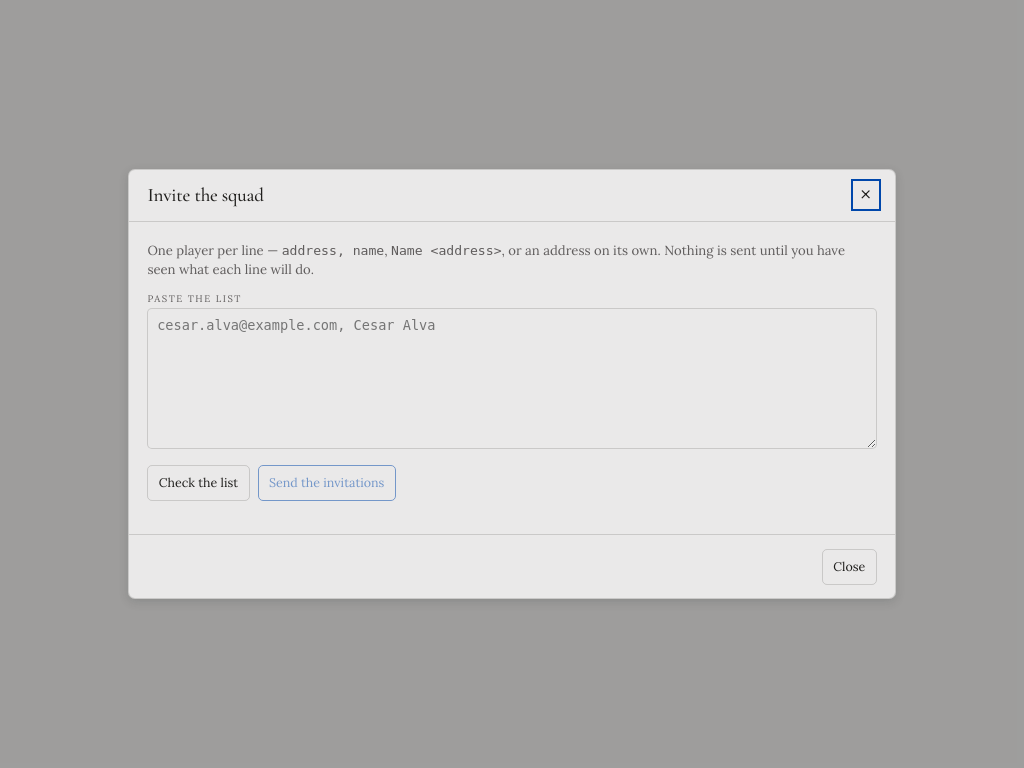
Test case: sending › hands back the database's own words when it refuses one
Type "cesar@example.com, Cesar Alva" into the text box labelled "Paste the list" at (512, 378), box [147, 308, 877, 449]
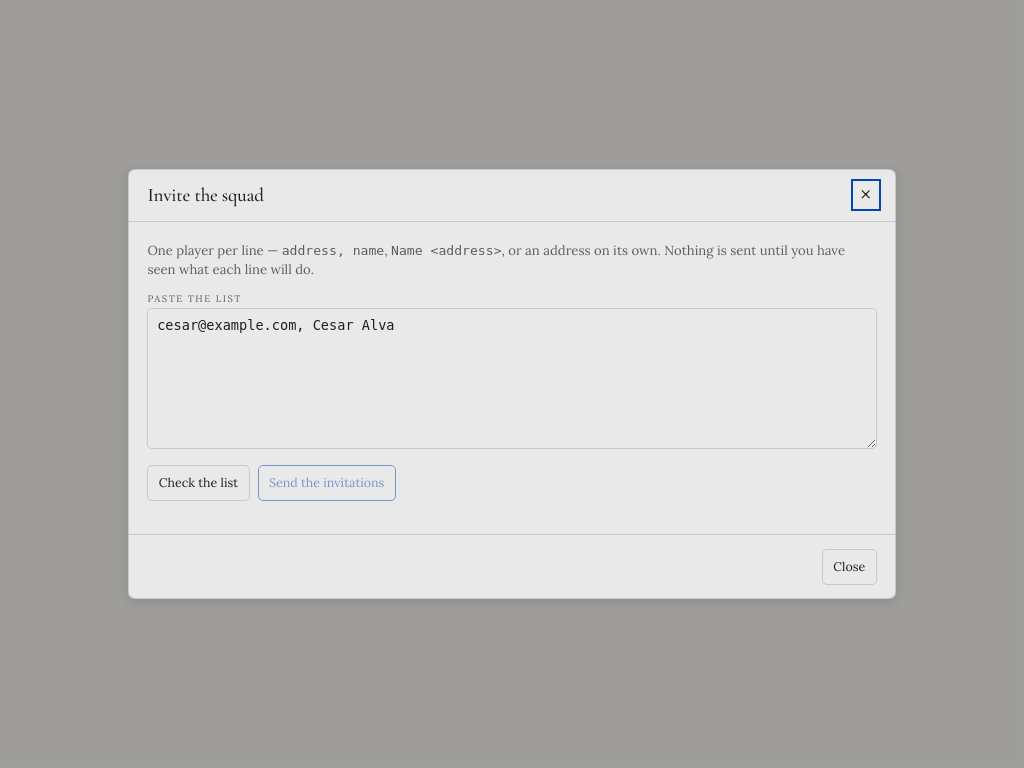
Click the button "Check the list" at (198, 483), box [147, 465, 250, 501]
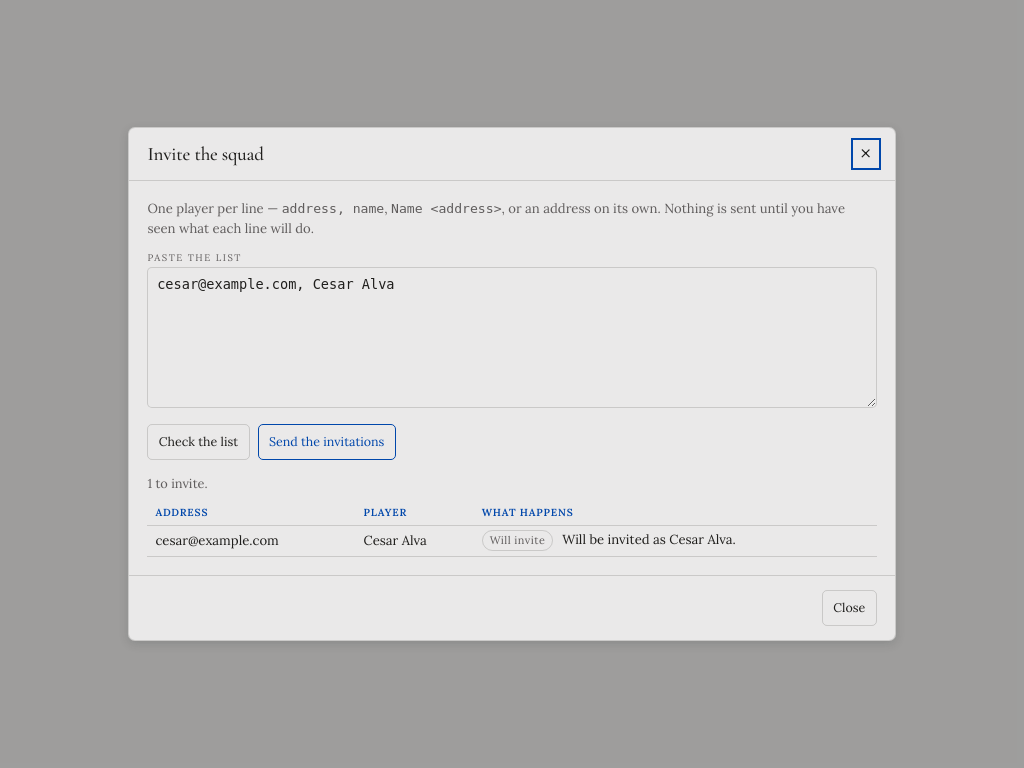
Click the button "Send the invitations" at (327, 442), box [258, 424, 396, 460]
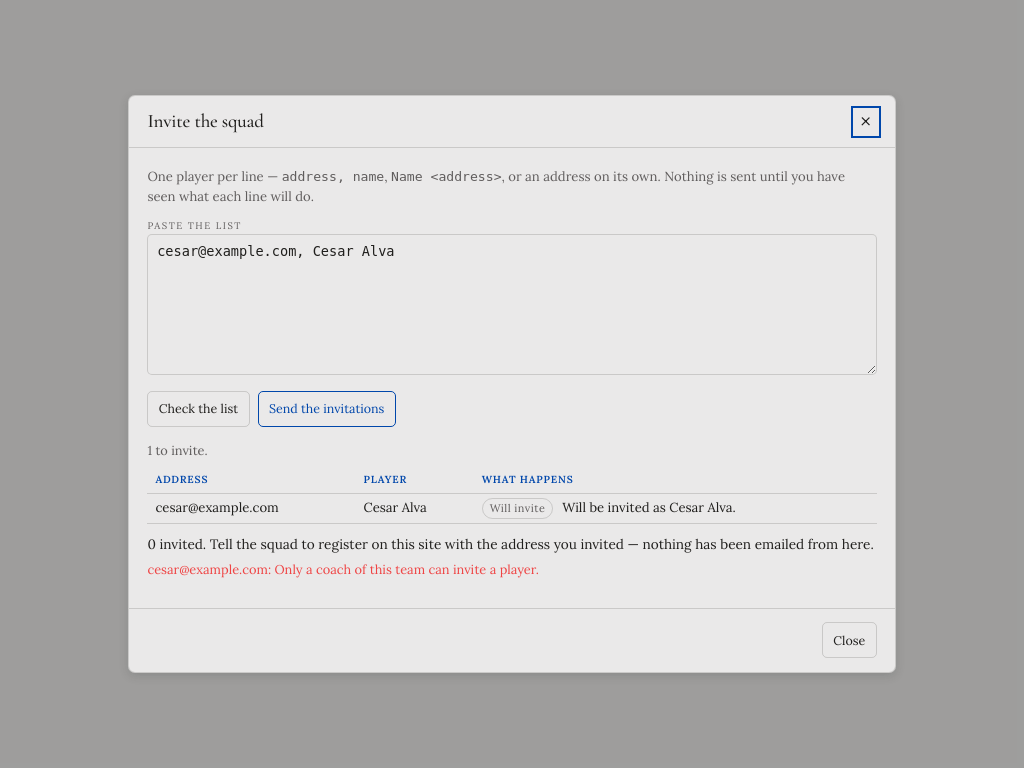
Now the text "Only a coach of this team can invite a player." is shown, box [147, 561, 539, 578]
